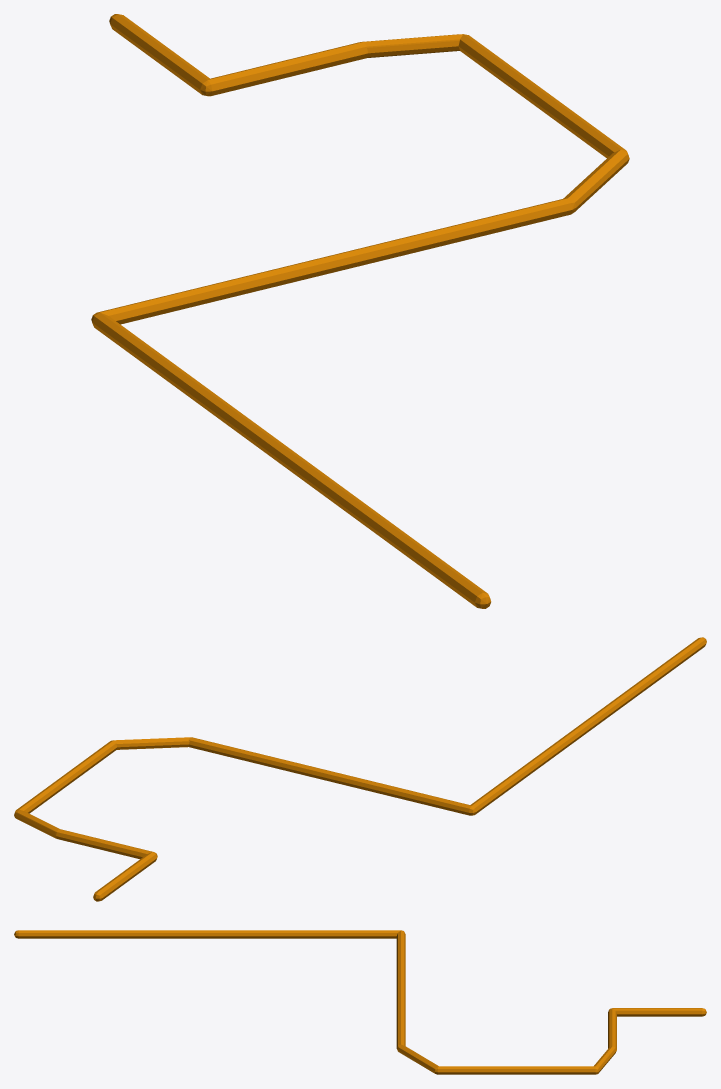
3 renders of one model, top to bottom at view 1: azimuth 30°, elevation 25°; view 2: azimuth 150°, elevation 25°; view 3: azimuth 270°, elevation 25°, orthographic. The views are drawn at different scales.
Bounding box in the file's own units: 735 × 20 × 1539.
